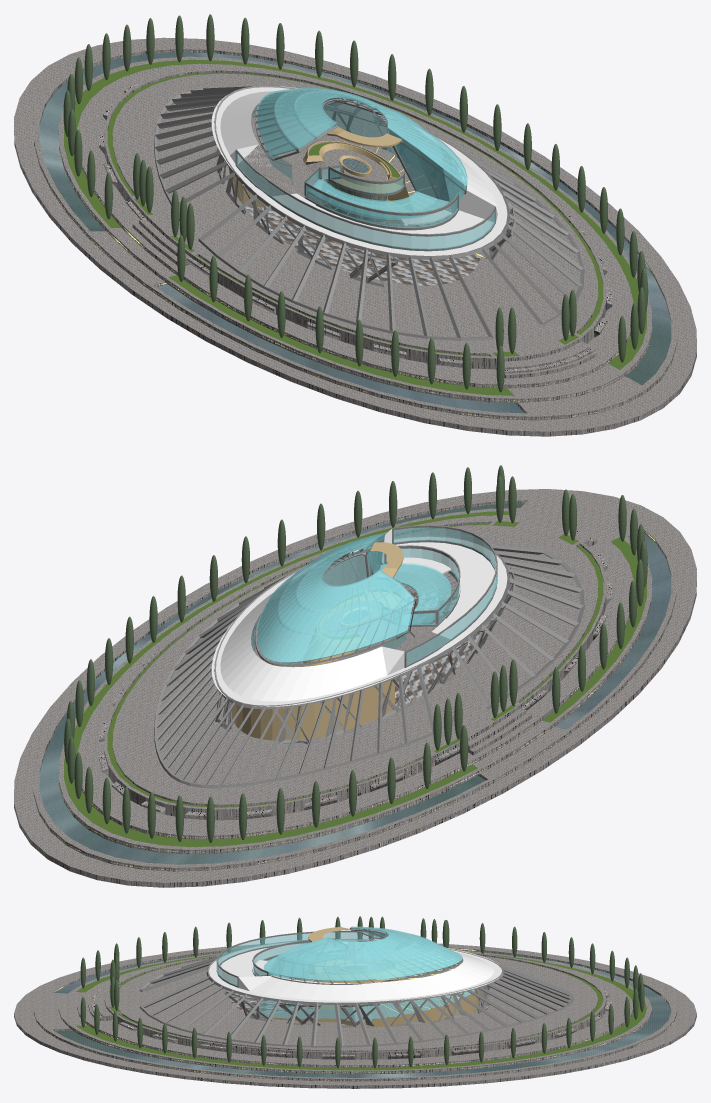
File: a_park_structure.glb
3 renders of one model, top to bottom at view 1: azimuth 30°, elevation 25°; view 2: azimuth 150°, elevation 25°; view 3: azimuth 270°, elevation 25°, orthographic. The views are drawn at different scales.
Parts seen in each view (by area): view 1: Object_7, Object_11, Object_13, Object_16, Object_10, Object_5, Object_4, Object_15, Object_6, Object_3, Object_12, Object_14; view 2: Object_7, Object_11, Object_13, Object_10, Object_16, Object_5, Object_4, Object_15, Object_6, Object_12, Object_14, Object_3; view 3: Object_7, Object_11, Object_13, Object_10, Object_16, Object_4, Object_5, Object_15, Object_6, Object_12, Object_14, Object_3 (+1 smaller).
Boxes of the visible parts, x1,y1,x2,y2 form: Object_7: (14, 37, 696, 436); Object_11: (236, 87, 495, 249); Object_13: (154, 85, 584, 340); Object_16: (39, 52, 671, 413); Object_10: (211, 86, 507, 255); Object_5: (63, 14, 644, 392); Object_4: (64, 59, 646, 395); Object_15: (235, 90, 495, 251); Object_6: (133, 15, 648, 333); Object_3: (245, 206, 480, 285); Object_12: (231, 116, 486, 258); Object_14: (216, 104, 515, 287); Object_7: (14, 489, 696, 887); Object_11: (251, 527, 497, 665); Object_13: (154, 535, 584, 788); Object_10: (211, 529, 507, 706); Object_16: (39, 503, 671, 864); Object_5: (67, 465, 647, 842); Object_4: (64, 511, 646, 846); Object_15: (255, 525, 497, 667); Object_6: (64, 473, 498, 823); Object_12: (231, 542, 403, 740); Object_14: (215, 551, 515, 744); Object_3: (395, 593, 480, 707); Object_7: (14, 942, 696, 1088); Object_11: (216, 926, 474, 1021); Object_13: (139, 939, 573, 1047); Object_10: (209, 940, 501, 1002); Object_16: (55, 951, 670, 1077); Object_4: (76, 952, 646, 1070); Object_5: (80, 916, 644, 1065); Object_15: (216, 927, 463, 987); Object_6: (112, 917, 638, 1068); Object_12: (250, 927, 480, 1027); Object_14: (224, 956, 492, 1027); Object_3: (230, 975, 313, 1014).
Bounding box in the file's own units: 39.47 × 10.95 × 78.94.
10 materials, 3 textured.
